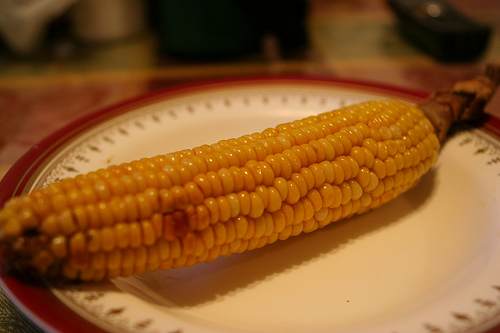corn: (0, 59, 499, 283)
